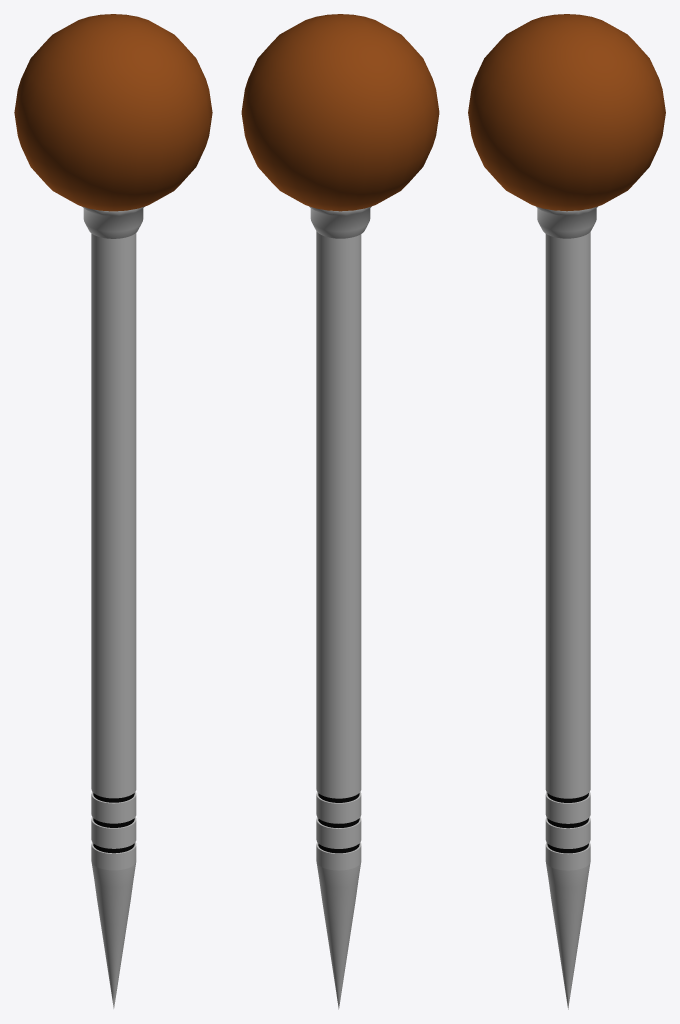
The model's file is SADDLEBROWN.glb.
3 views of the same model, side by side, from view 1: azimuth 30°, elevation 25°; view 2: azimuth 150°, elevation 25°; view 3: azimuth 270°, elevation 25° (orthographic).
Visible parts, largest first — view 1: Needle, Sphere, Ball_Holder; view 2: Needle, Sphere, Ball_Holder; view 3: Needle, Sphere, Ball_Holder.
Boxes of the visible parts, x1=… form: Needle: x1=91, y1=233, x2=136, y2=1008; Sphere: x1=14, y1=14, x2=212, y2=211; Ball_Holder: x1=82, y1=206, x2=144, y2=238; Needle: x1=316, y1=231, x2=361, y2=1009; Sphere: x1=241, y1=14, x2=439, y2=211; Ball_Holder: x1=309, y1=206, x2=371, y2=238; Needle: x1=545, y1=232, x2=590, y2=1009; Sphere: x1=468, y1=14, x2=665, y2=211; Ball_Holder: x1=536, y1=206, x2=597, y2=238.
Size of the model in its own units: 2.2 by 12.1 by 2.2.
